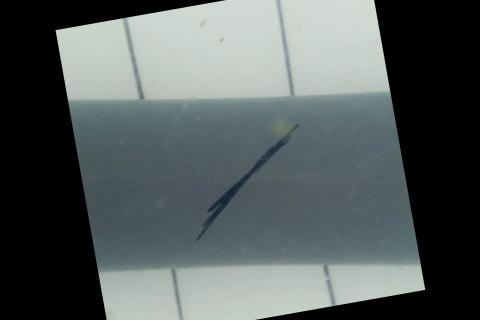keretakan: (174, 122, 319, 244)
